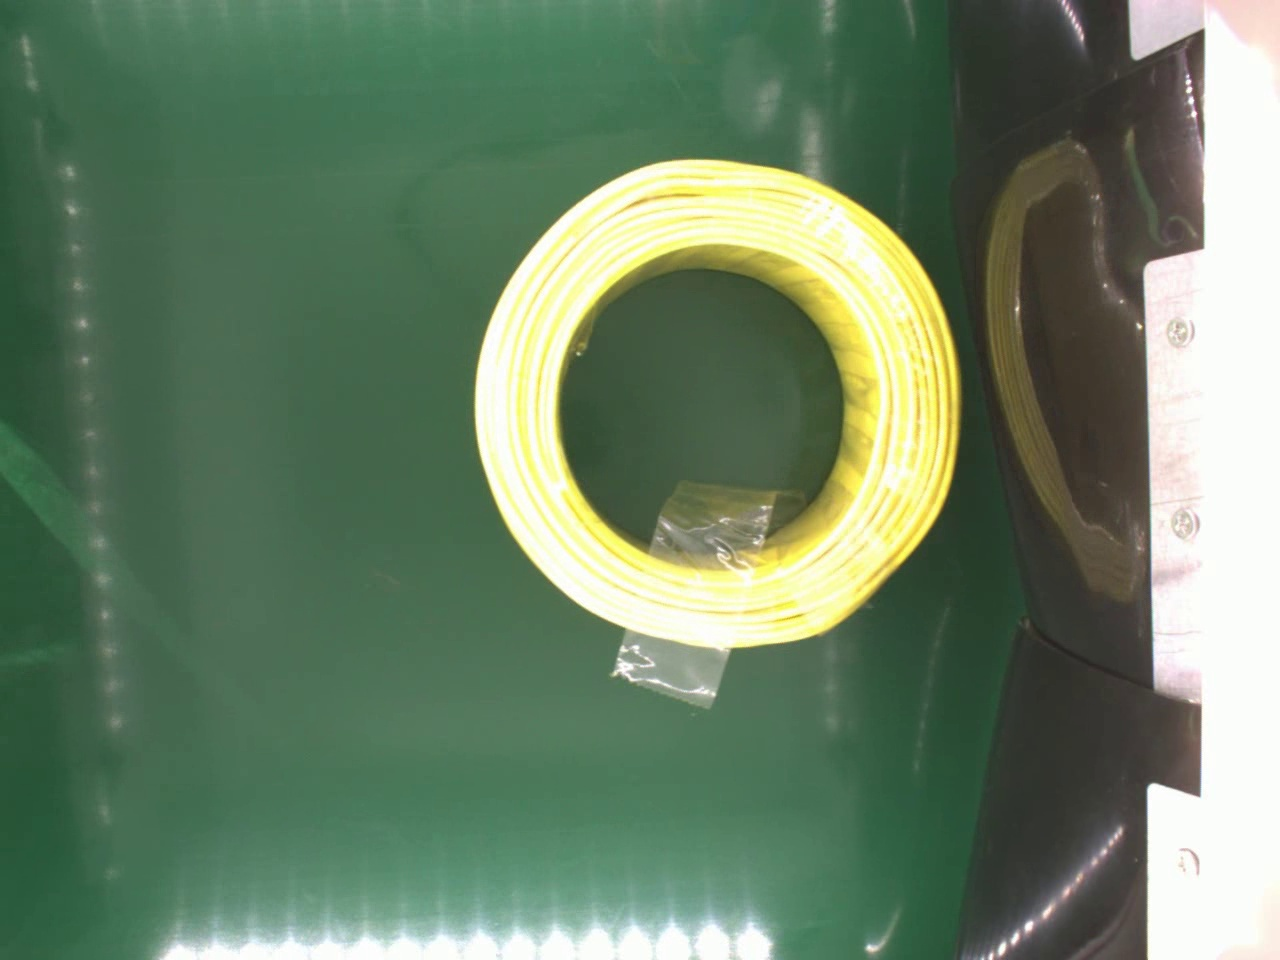yellow: (469, 154, 964, 643)
